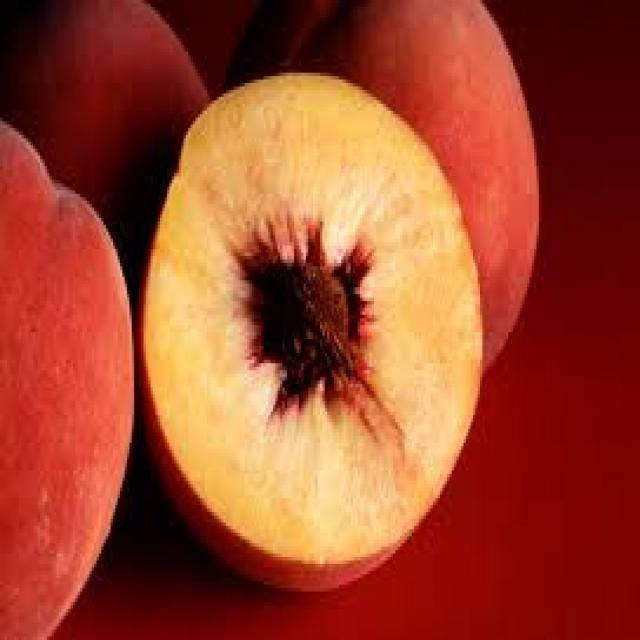organic waste: (132, 69, 482, 588), (216, 0, 538, 387), (0, 114, 132, 637), (0, 0, 212, 273)
